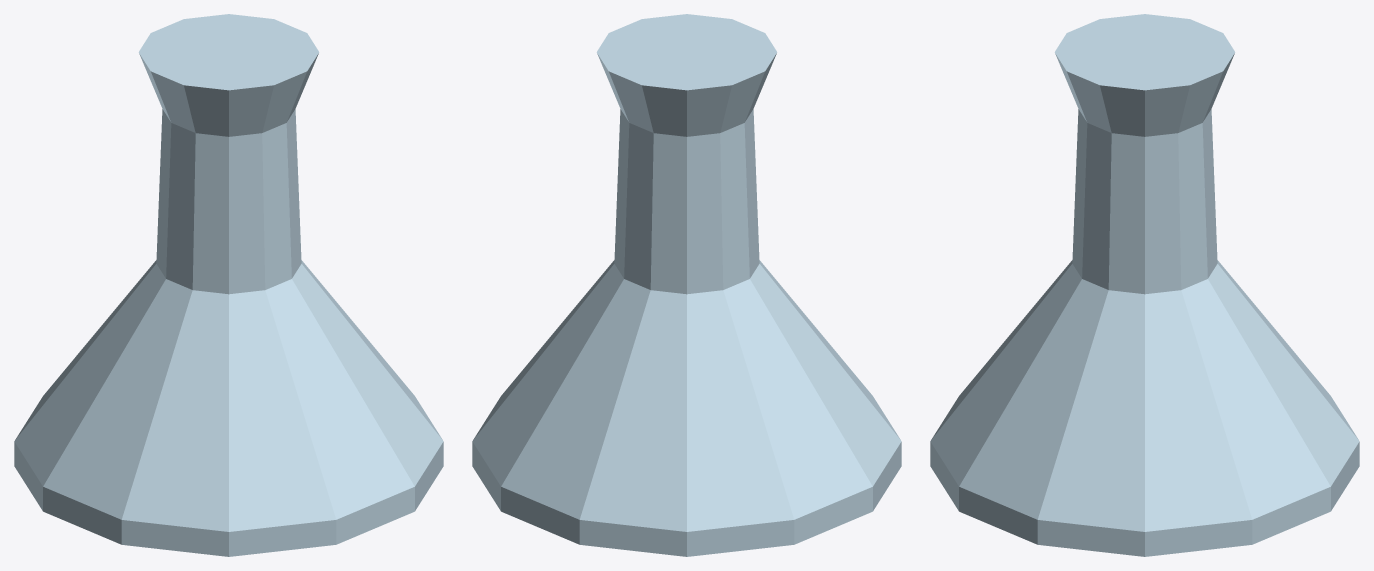
File: chemistry.glb
The picture shows the model from 3 angles, left to right: view 1: azimuth 30°, elevation 25°; view 2: azimuth 150°, elevation 25°; view 3: azimuth 270°, elevation 25°; orthographic projection.
Bounding box in the file's own units: 0.53 × 0.564 × 0.53.
